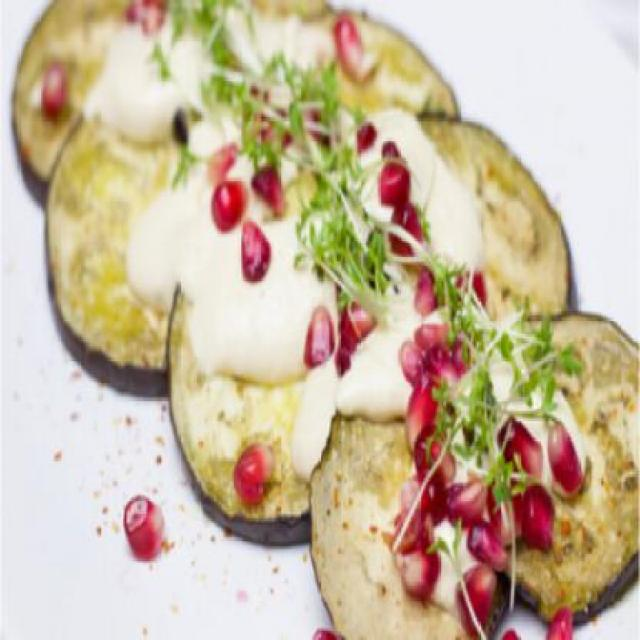hummus: (85, 16, 582, 592)
